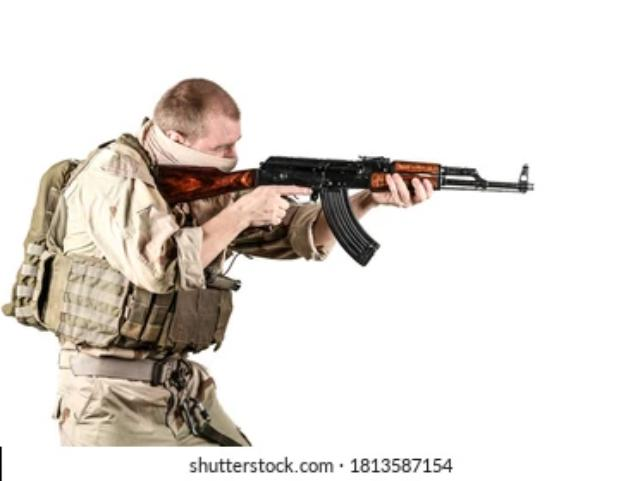other: (20, 79, 286, 446)
